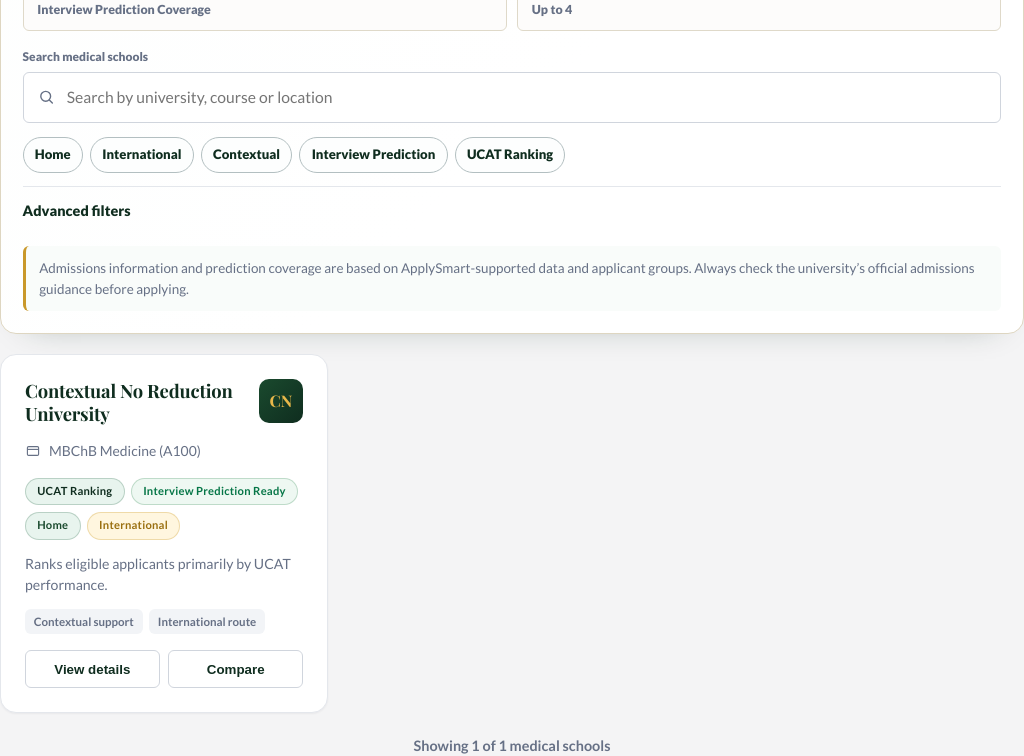
Test case: UniversityPickerPage › shows a concise contextual fallback when no grade reduction is published
(page scrolled)
Expected: the element with test id "university-grid" is shown, [0,354,328,713]
Click the button "View details".
click(92, 669)  # box [25,650,160,688]
(page scrolled)
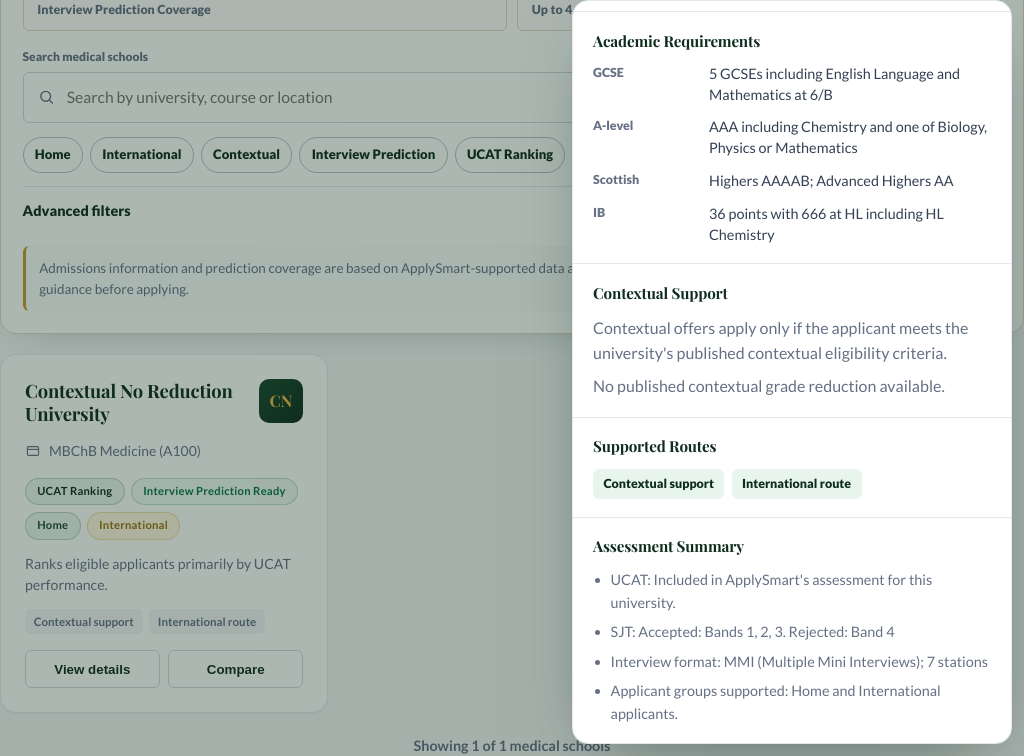
Expected: the heading "Contextual Support" is shown, [593,283,728,303]
Expected: the text "No published contextual grade reduction available." is shown, [593,374,991,399]
Expected: the list item "Applicant groups supported: Home and International applicants." is shown, [611,680,991,725]
